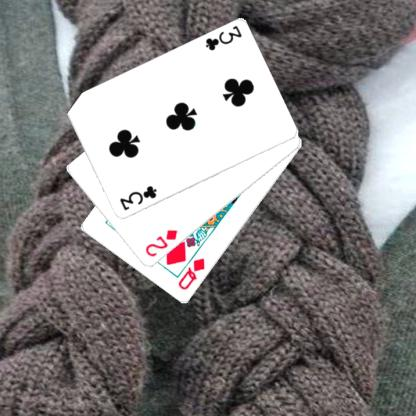2D: (142, 227, 179, 259)
3C: (202, 23, 244, 52), (117, 183, 158, 212)
QD: (176, 256, 206, 292)
